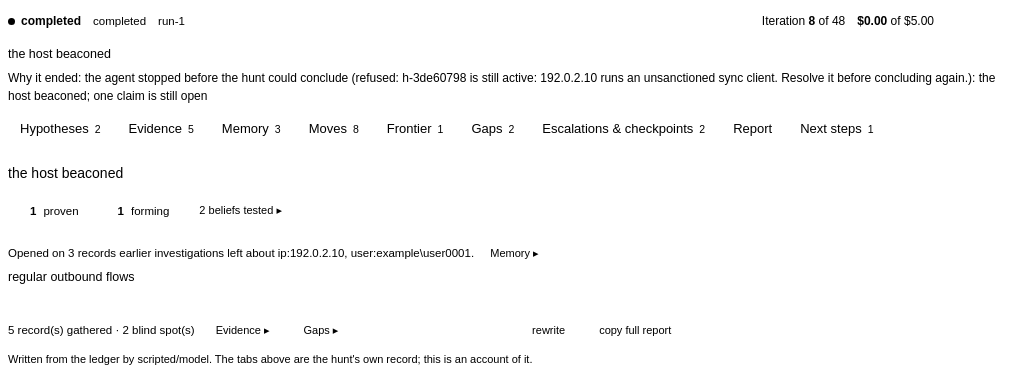
Test case: a hunt run on the kernel › shows its beliefs, the one the agent proposed included
What coordinates should you click on to do the following:
click the tab "Hypotheses2"
I would click on:
 (60, 128)
Its box is [8, 115, 112, 142].
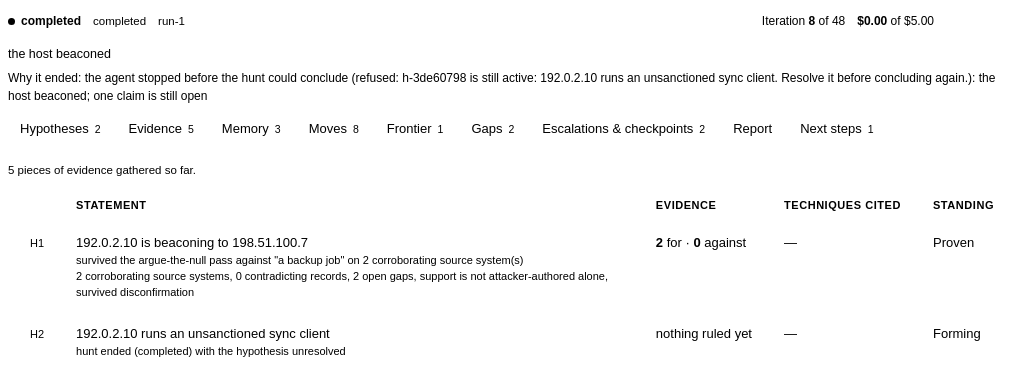
Expected: the text "runs an unsanctioned sync client" is shown, [8, 71, 995, 103]
Now the text "192.0.2.10 is beaconing to 198.51.100.7" is shown, box [76, 235, 308, 250]
